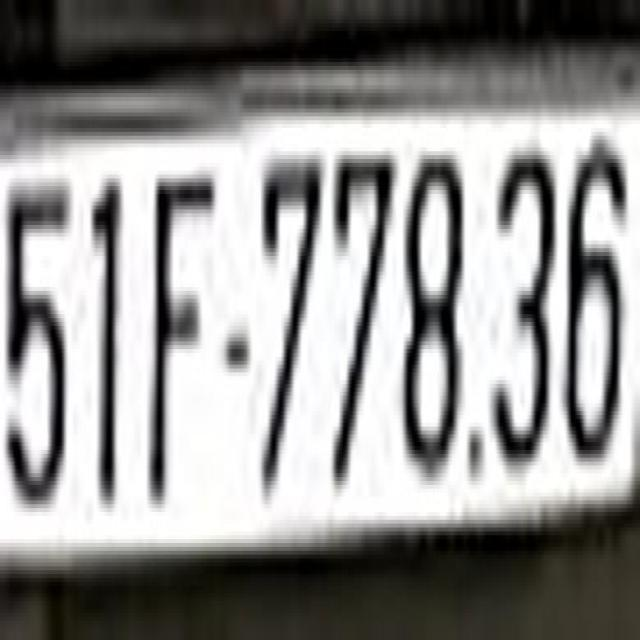1: (91, 162, 123, 500)
3: (494, 151, 554, 473)
5: (5, 170, 70, 504)
6: (568, 128, 630, 458)
7: (332, 144, 397, 478), (258, 152, 320, 496)
8: (401, 148, 464, 474)
F: (151, 170, 212, 504)
